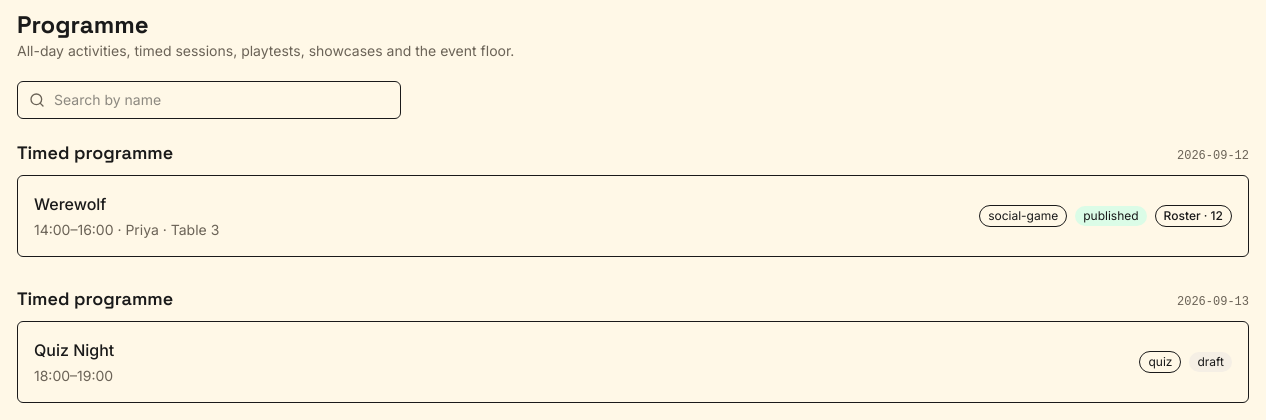
Test case: finding a programme item by name › is there for somebody who may only look, who gets no edition picker
Expected: the text "Werewolf" is shown, [34,194,106,214]
Type "were" into the search field named "Search the programme" at [209, 100], box [17,81,401,119]
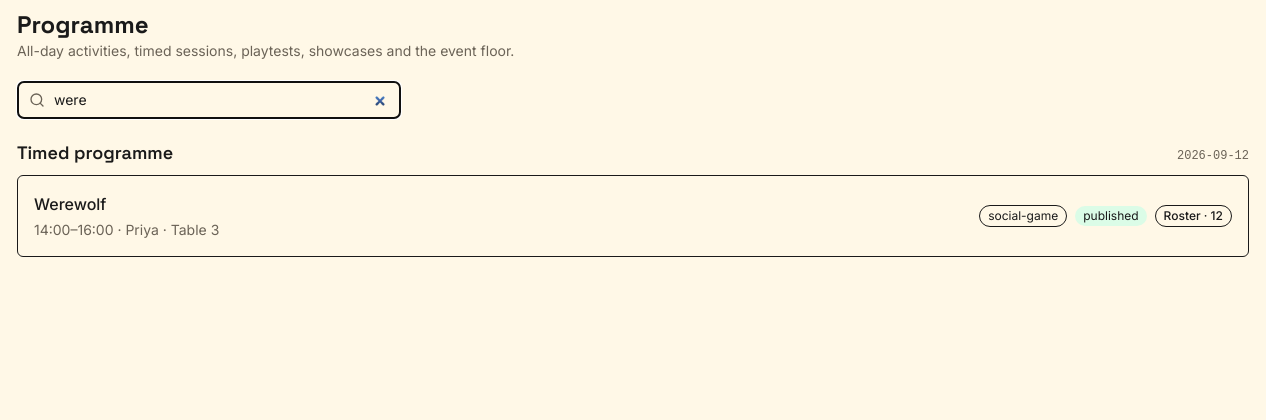
Expected: the link "Quiz Night" is gone
